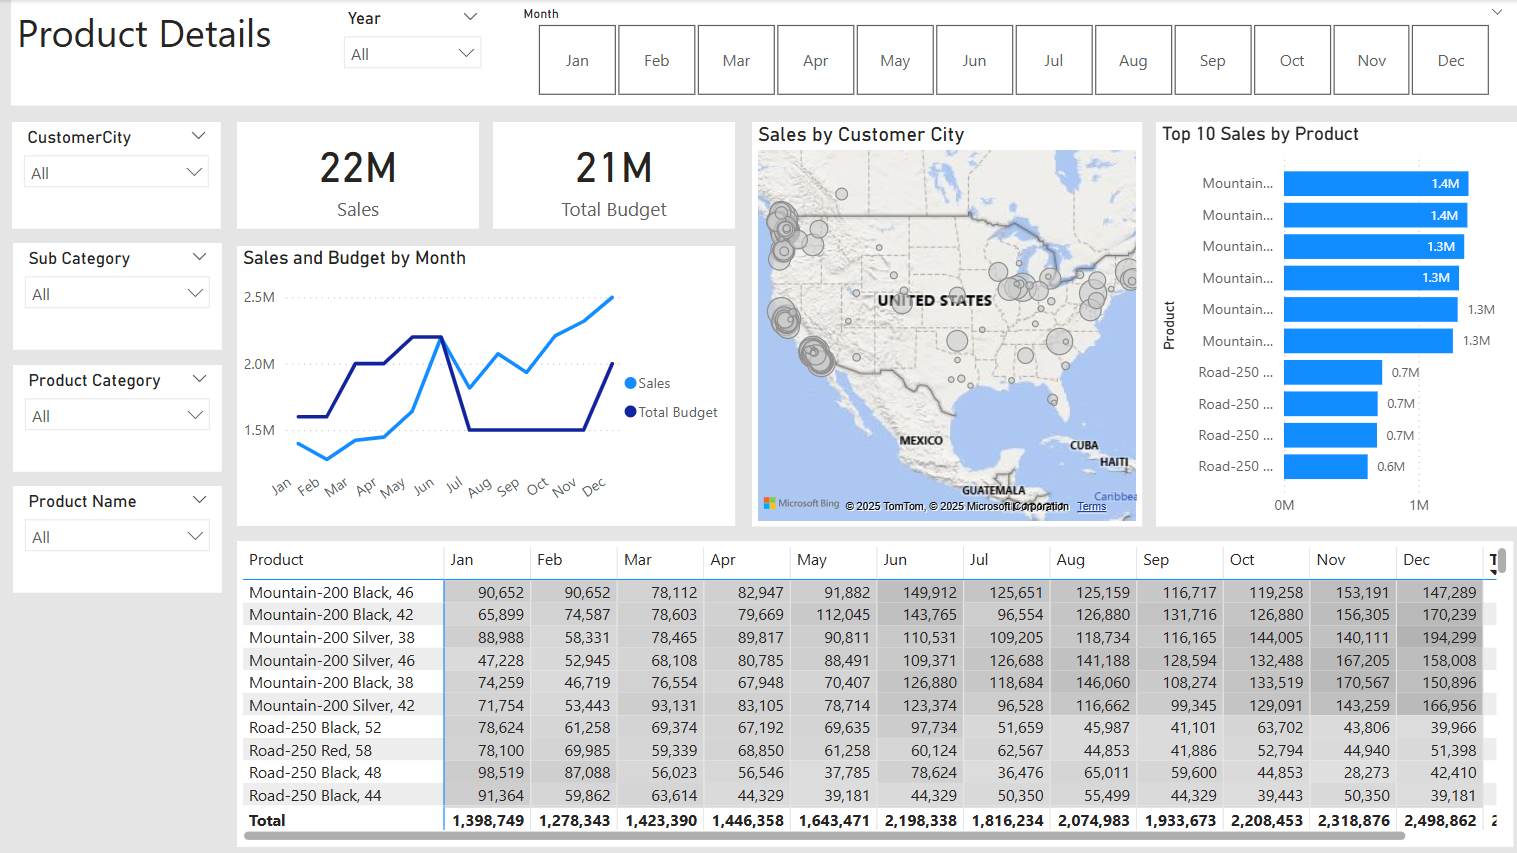

Layout of this report page (visuals, bound fields, positions):
{"tool":"powerbi","page":{"name":"Product Details","canvas":[1280,720],"ordinal":2},"visuals":[{"type":"textbox","box":[9.4,0,1269.9,88.8],"z":0},{"type":"slicer","fields":{"Values":["DIM_Customer.CustomerCity"]},"box":[10,102.5,176.2,90],"z":1000},{"type":"slicer","fields":{"Values":["DIM_Product.Sub Category"]},"box":[11.2,205,176.2,90],"z":2000},{"type":"slicer","fields":{"Values":["DIM_Product.Product Category"]},"box":[11.2,307.5,176.2,90],"z":3000},{"type":"slicer","fields":{"Values":["DIM_Product.ProductName"]},"box":[11.2,410,176.2,90],"z":4000},{"type":"slicer","fields":{"Values":["DIM_Calendar.Year"]},"box":[280,2.9,135.7,84.3],"z":5000},{"type":"slicer","fields":{"Values":["DIM_Calendar.MonthShort"]},"box":[428.6,0,851.4,87.1],"z":6000},{"type":"lineChart","title":"Sales and Budget by Month","fields":{"Y":["Key Measures.Sales","Key Measures.Total Budget"],"Category":["DIM_Calendar.MonthShort"]},"box":[200,207.1,420,235.7],"z":7000},{"type":"map","title":"Sales by Customer City","fields":{"Category":["DIM_Customer.CustomerCity"],"Size":["Key Measures.Sales"]},"box":[633.8,102.5,328.8,341.2],"z":9000},{"type":"card","fields":{"Values":["Key Measures.Sales"]},"box":[200,102.9,204.3,90],"z":10000},{"type":"card","fields":{"Values":["Key Measures.Total Budget"]},"box":[415.7,102.9,204.3,90],"z":11000},{"type":"pivotTable","fields":{"Values":["Key Measures.Sales"],"Columns":["DIM_Calendar.MonthShort"],"Rows":["DIM_Product.ProductName"]},"box":[200,456.2,1076.2,257.5],"z":12000},{"type":"barChart","title":"Top 10 Sales by Product","fields":{"Y":["Key Measures.Sales"],"Category":["DIM_Product.ProductName"]},"box":[975,102.5,305,341.2],"z":12001}]}

Visuals, with their boxes in screenshot pixels (x1, y1, x2, y2), scaled from the page's 1280x720 canvas onto the 1517x853 screenshot:
textbox: [11,0,1516,105]
slicer - DIM_Customer.CustomerCity: [12,121,221,228]
slicer - DIM_Product.Sub Category: [13,243,222,349]
slicer - DIM_Product.Product Category: [13,364,222,471]
slicer - DIM_Product.ProductName: [13,486,222,592]
slicer - DIM_Calendar.Year: [332,3,493,103]
slicer - DIM_Calendar.MonthShort: [508,0,1516,103]
"Sales and Budget by Month" lineChart: [237,245,735,525]
"Sales by Customer City" map: [751,121,1141,526]
card - Key Measures.Sales: [237,122,479,229]
card - Key Measures.Total Budget: [493,122,735,229]
pivotTable - Key Measures.Sales x DIM_Calendar.MonthShort: [237,540,1512,846]
"Top 10 Sales by Product" barChart: [1156,121,1516,526]
